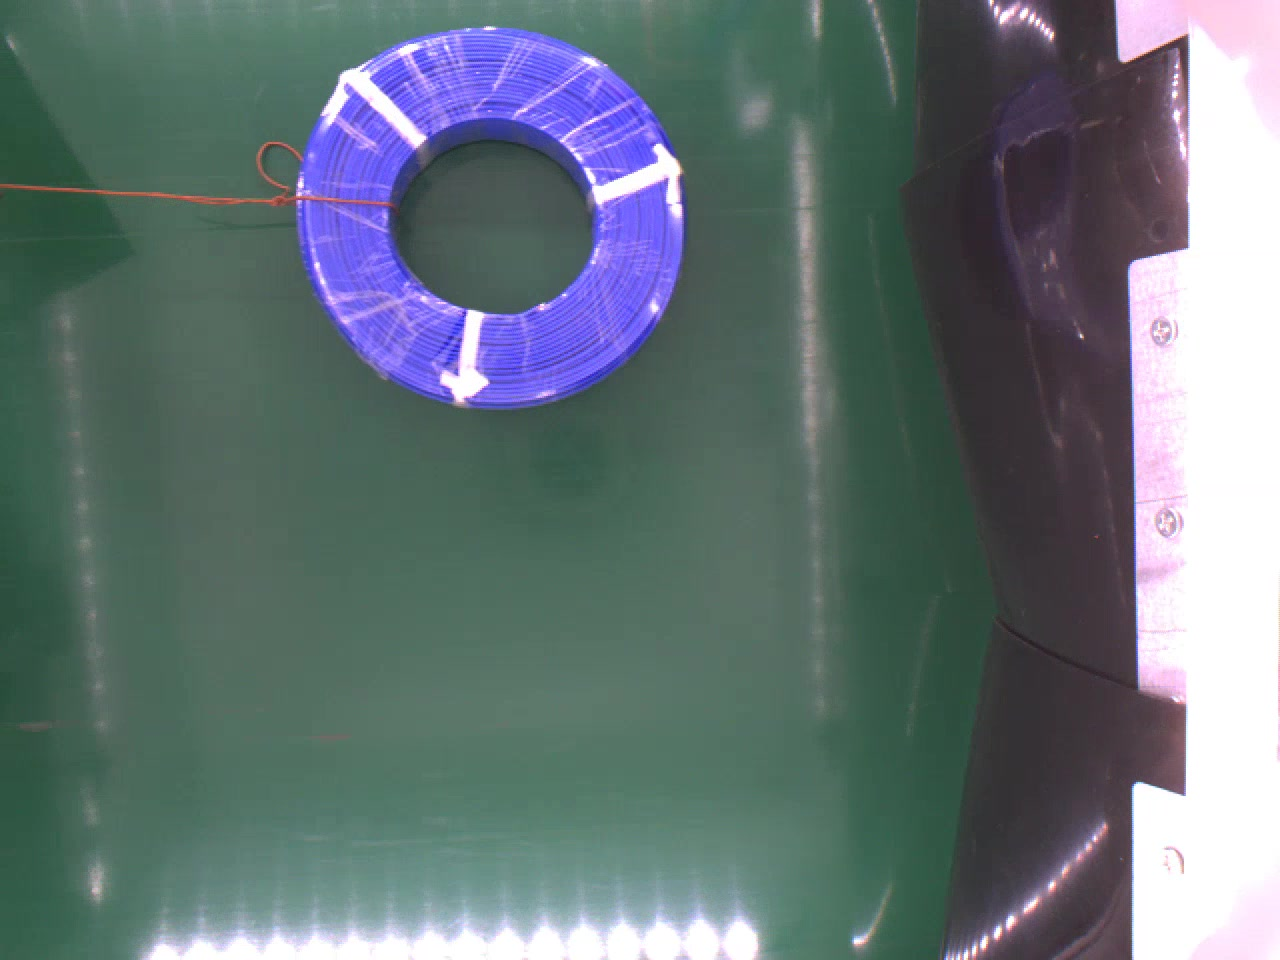blue: (295, 27, 686, 413)
